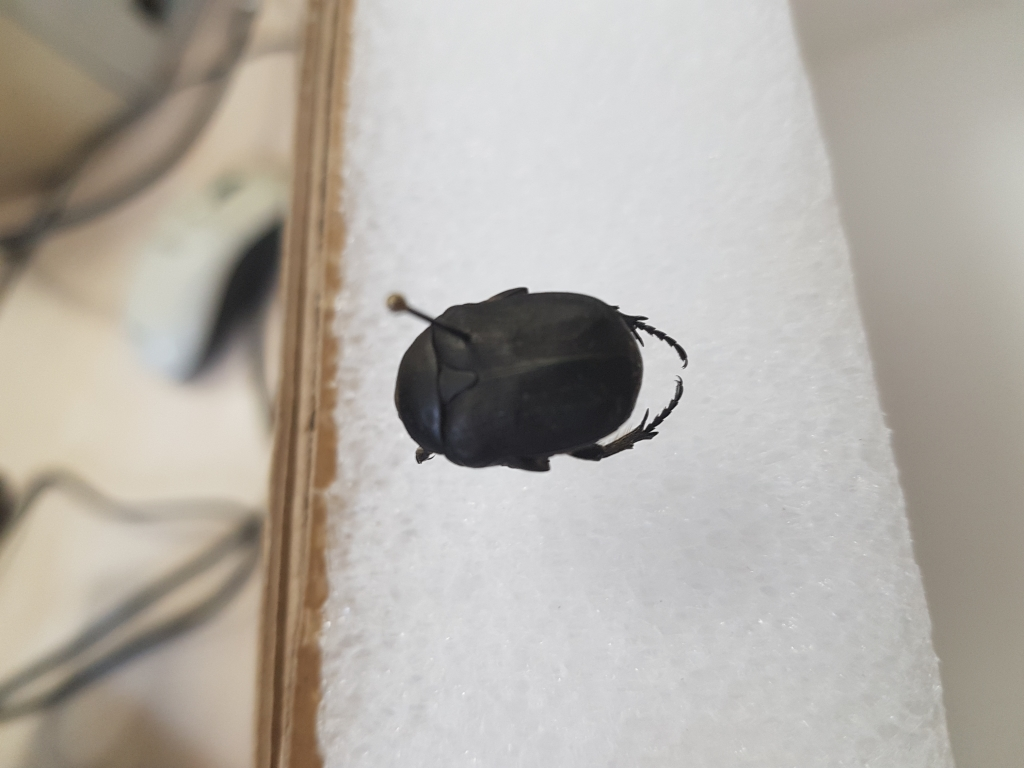Protaetia_asiatica: (388, 278, 703, 481)
